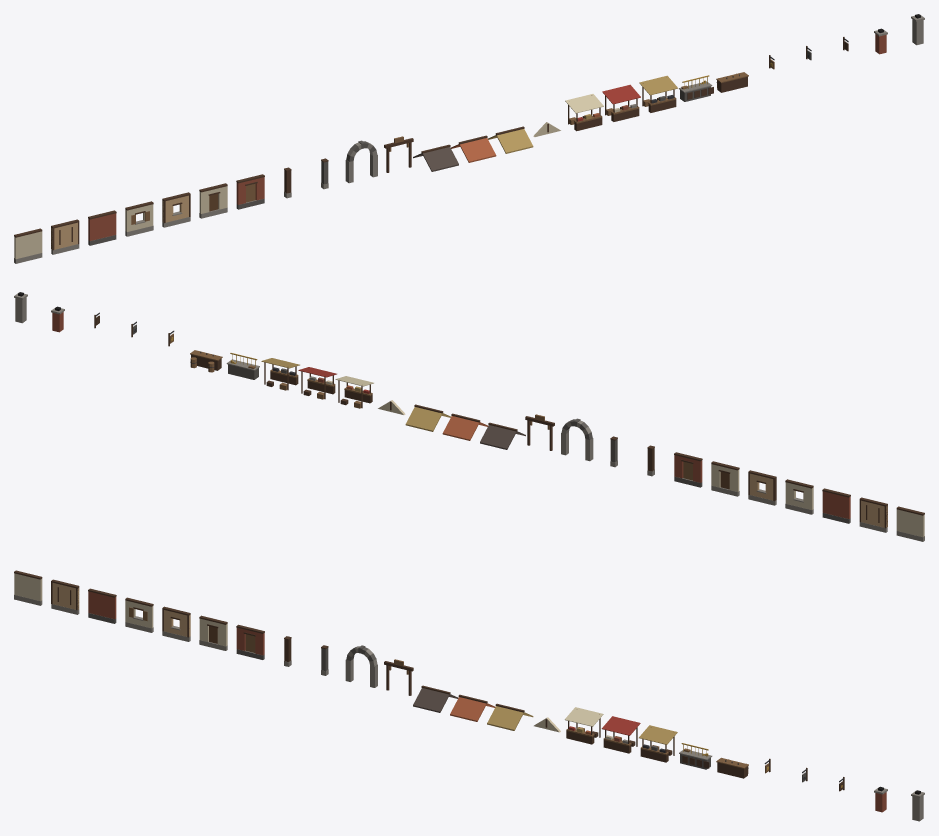
File: buildings.glb
The picture shows the model from 3 angles, top to bottom: view 1: azimuth 30°, elevation 25°; view 2: azimuth 150°, elevation 25°; view 3: azimuth 330°, elevation 25°; orthographic projection.
Parts seen in each view (by area): view 1: stall_c, stall_b, stall_a, wall_door_a, wall_door_b, wall_plain_c, wall_plain_a, wall_plain_b, wall_window_b, wall_window_a, roof_a, roof_c (+3 smaller); view 2: wall_door_a, wall_door_b, wall_plain_c, wall_plain_a, wall_plain_b, wall_window_b, wall_window_a, stall_a, stall_b, stall_c, roof_a, roof_c (+4 smaller); view 3: stall_a, stall_c, stall_b, wall_plain_a, wall_plain_b, wall_plain_c, wall_door_b, wall_door_a, wall_window_b, wall_window_a, roof_c, roof_a (+3 smaller).
Boxes of the visible parts, x1,y1,x2,y2 form: stall_c: [639, 75, 678, 112]; stall_b: [602, 84, 640, 121]; stall_a: [565, 94, 603, 131]; wall_door_a: [199, 183, 227, 218]; wall_door_b: [236, 174, 264, 209]; wall_plain_c: [88, 210, 116, 245]; wall_plain_a: [14, 228, 42, 263]; wall_plain_b: [51, 219, 79, 254]; wall_window_b: [162, 192, 190, 227]; wall_window_a: [125, 201, 153, 236]; roof_a: [413, 144, 458, 171]; roof_c: [488, 126, 533, 153]; wall_door_a: [711, 461, 739, 496]; wall_door_b: [674, 452, 702, 487]; wall_plain_c: [822, 488, 850, 523]; wall_plain_a: [896, 506, 924, 541]; wall_plain_b: [859, 497, 887, 532]; wall_window_b: [748, 470, 776, 505]; wall_window_a: [785, 479, 813, 514]; stall_a: [335, 376, 373, 408]; stall_b: [298, 367, 336, 399]; stall_c: [261, 358, 299, 390]; roof_a: [480, 422, 525, 449]; roof_c: [405, 404, 450, 431]; stall_a: [564, 707, 603, 744]; stall_c: [639, 725, 677, 762]; stall_b: [601, 716, 640, 753]; wall_plain_a: [14, 570, 42, 605]; wall_plain_b: [51, 579, 79, 614]; wall_plain_c: [88, 588, 116, 623]; wall_door_b: [236, 624, 264, 659]; wall_door_a: [199, 615, 227, 650]; wall_window_b: [162, 606, 190, 641]; wall_window_a: [125, 597, 153, 632]; roof_c: [487, 703, 533, 730]; roof_a: [413, 685, 458, 712].
Bounding box in the file's own units: 103 × 4.09 × 3.7.
1 material, 1 textured.
